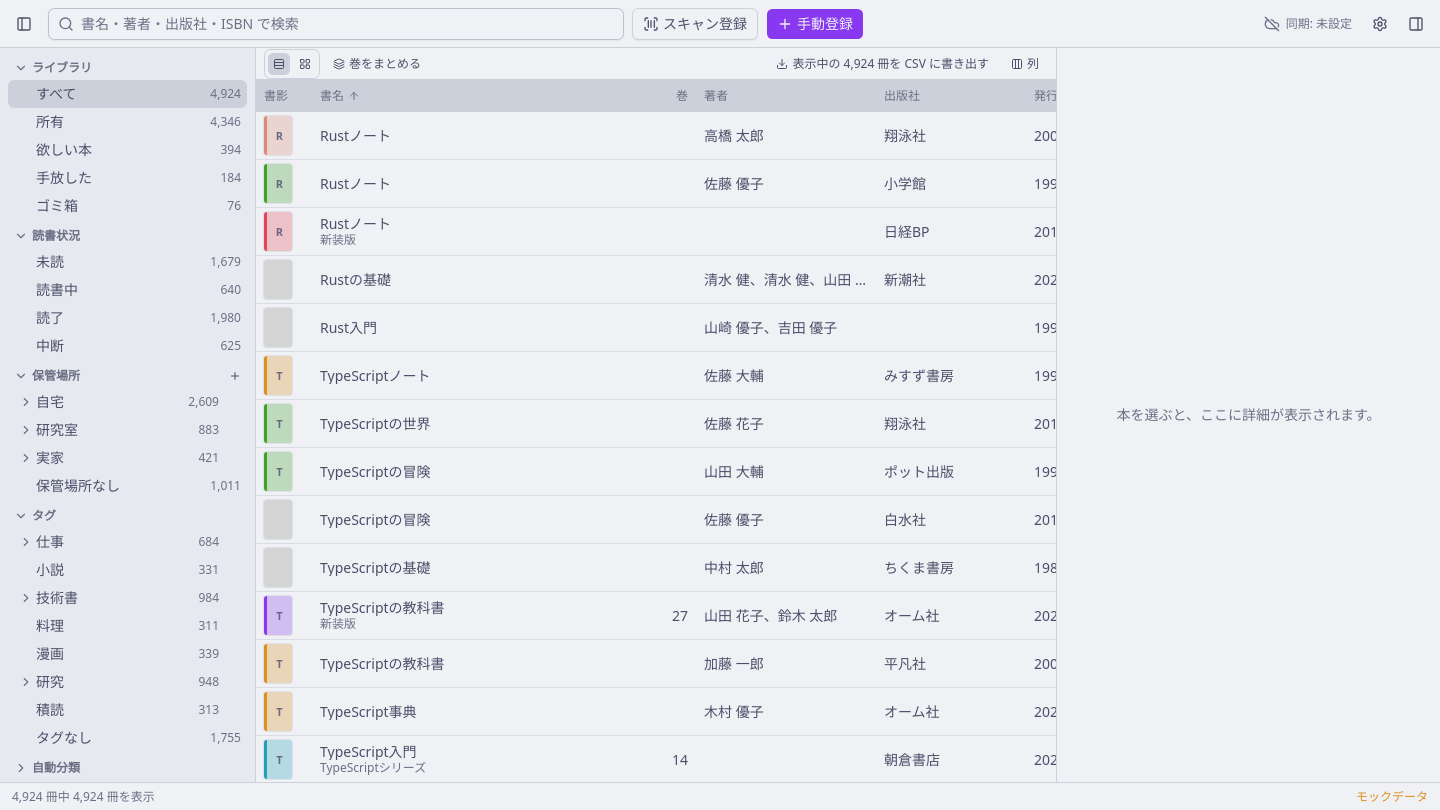
Scenario: App（ブラウザ。バックエンドなしでモックのデータで動く） › 検索欄に入力すると、一覧が絞り込まれる（検索はモック）
Expected: the message shows "冊中", [12, 788, 155, 804]
In the search field named "蔵書を検索": (336, 24) [48, 8, 624, 40], type "存在しない語zzzzqqqq"
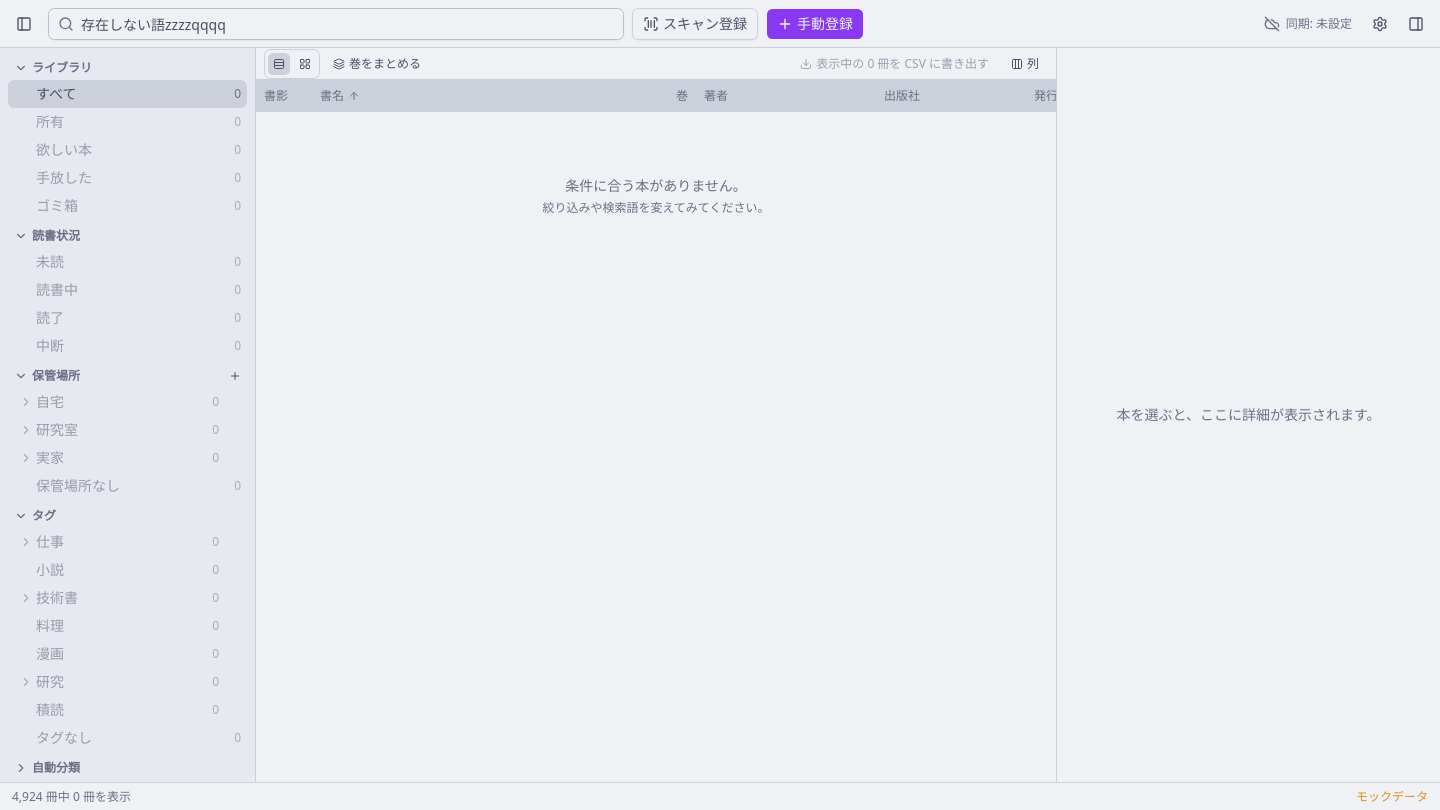
Now the message shows "0 冊を表示", box [12, 788, 131, 804]
Now the text "条件に合う本がありません。" is shown, box [565, 176, 747, 196]
